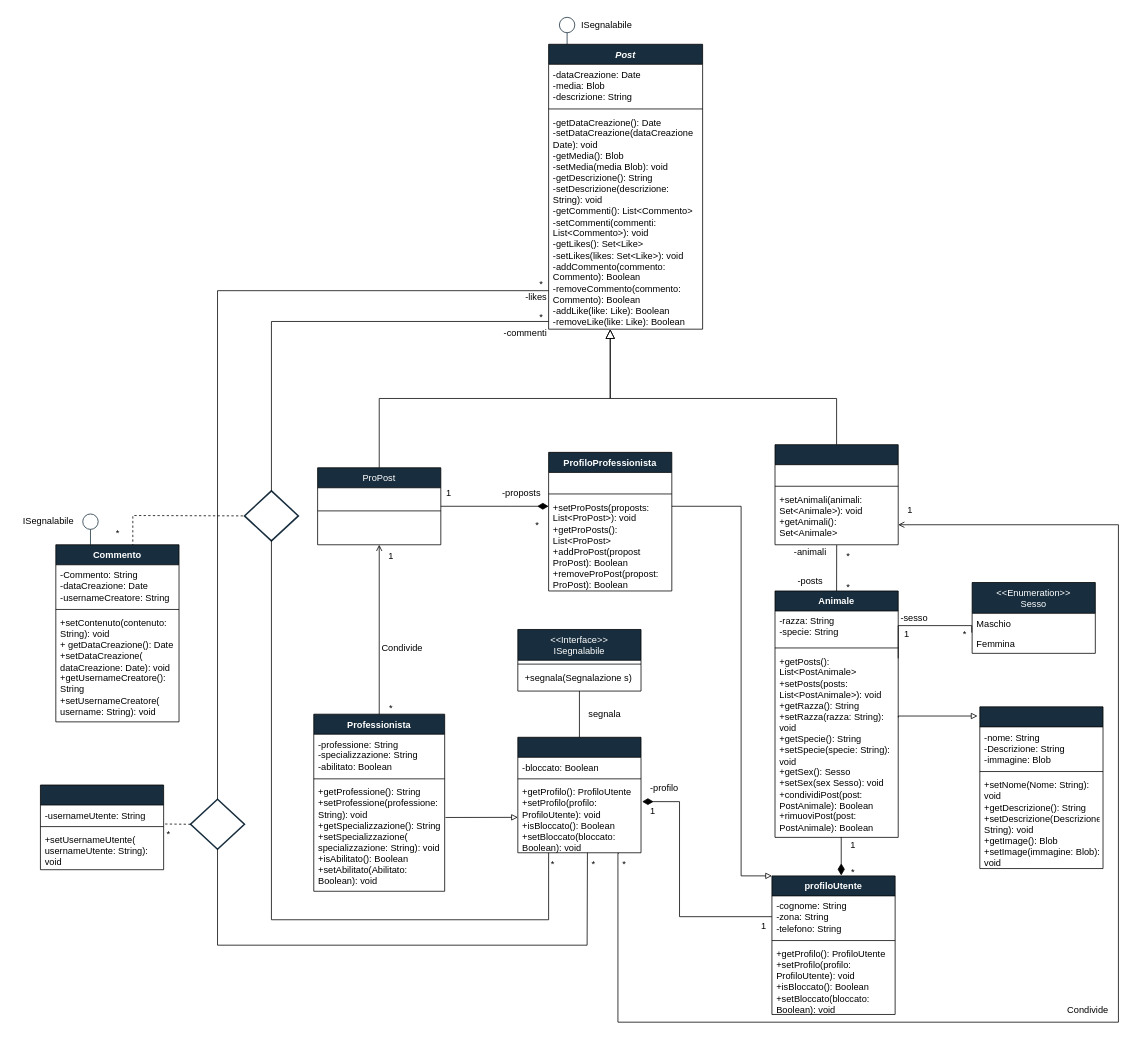
Image size: 1138x1042. Some labels were removed from this diagram. The box of each missing label's shape, as (x1, y1, x2, y2) in pixels:
Like: (40, 784, 164, 870)
PostAnimale: (774, 444, 898, 545)
profilo: (979, 706, 1103, 869)
UtenteStandard: (517, 737, 641, 853)
